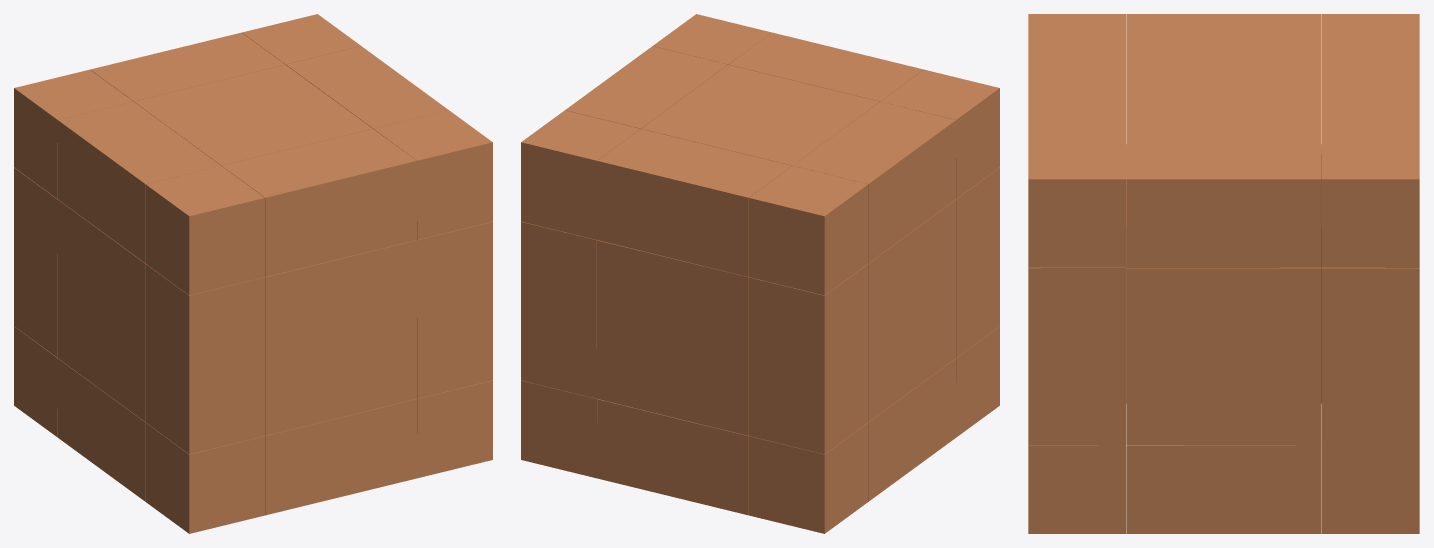
File: cube-cell-fracture.gltf
3 renders of one model, left to right at view 1: azimuth 30°, elevation 25°; view 2: azimuth 150°, elevation 25°; view 3: azimuth 270°, elevation 25°, orthographic. The views are drawn at different scales.
Visible parts, largest first — view 1: Cube_cell.022, Cube_cell.004, Cube_cell.020, Cube_cell.009, Cube_cell.005, Cube_cell.019, Cube_cell.003, Cube_cell.014, Cube_cell.007, Cube_cell.013, Cube_cell.011, Cube_cell (+7 smaller); view 2: Cube_cell.010, Cube_cell.023, Cube_cell.015, Cube_cell.009, Cube_cell.005, Cube_cell.019, Cube_cell.002, Cube_cell.006, Cube_cell.024, Cube_cell.012, Cube_cell.021, Cube_cell (+7 smaller); view 3: Cube_cell.016, Cube_cell.018, Cube_cell.007, Cube_cell.024, Cube_cell.001, Cube_cell.019, Cube_cell.011, Cube_cell.021, Cube_cell.008, Cube_cell.017, Cube_cell.005, Cube_cell.015 (+3 smaller).
Boxes of the visible parts, x1=… form: Cube_cell.022: x1=265, y1=240, x2=416, y2=435; Cube_cell.004: x1=145, y1=264, x2=264, y2=454; Cube_cell.020: x1=222, y1=129, x2=416, y2=276; Cube_cell.009: x1=58, y1=199, x2=145, y2=421; Cube_cell.005: x1=58, y1=101, x2=220, y2=263; Cube_cell.019: x1=134, y1=64, x2=372, y2=165; Cube_cell.003: x1=145, y1=166, x2=264, y2=295; Cube_cell.014: x1=265, y1=399, x2=416, y2=515; Cube_cell.007: x1=417, y1=221, x2=492, y2=398; Cube_cell.013: x1=145, y1=423, x2=264, y2=533; Cube_cell.011: x1=373, y1=110, x2=492, y2=239; Cube_cell: x1=58, y1=358, x2=145, y2=501; Cube_cell.010: x1=597, y1=240, x2=748, y2=435; Cube_cell.023: x1=749, y1=264, x2=868, y2=454; Cube_cell.015: x1=597, y1=129, x2=791, y2=276; Cube_cell.009: x1=868, y1=199, x2=955, y2=421; Cube_cell.005: x1=793, y1=101, x2=955, y2=263; Cube_cell.019: x1=641, y1=64, x2=879, y2=165; Cube_cell.002: x1=749, y1=166, x2=868, y2=295; Cube_cell.006: x1=597, y1=399, x2=748, y2=515; Cube_cell.024: x1=521, y1=221, x2=597, y2=398; Cube_cell.012: x1=749, y1=423, x2=868, y2=533; Cube_cell.021: x1=521, y1=110, x2=640, y2=239; Cube_cell: x1=868, y1=358, x2=955, y2=501; Cube_cell.016: x1=1126, y1=267, x2=1321, y2=445; Cube_cell.018: x1=1126, y1=138, x2=1321, y2=267; Cube_cell.007: x1=1028, y1=267, x2=1125, y2=445; Cube_cell.024: x1=1322, y1=267, x2=1419, y2=445; Cube_cell.001: x1=1126, y1=445, x2=1321, y2=533; Cube_cell.019: x1=1126, y1=55, x2=1321, y2=137; Cube_cell.011: x1=1028, y1=138, x2=1125, y2=267; Cube_cell.021: x1=1322, y1=138, x2=1419, y2=267; Cube_cell.008: x1=1028, y1=445, x2=1125, y2=533; Cube_cell.017: x1=1322, y1=445, x2=1419, y2=533; Cube_cell.005: x1=1126, y1=14, x2=1321, y2=55; Cube_cell.015: x1=1322, y1=55, x2=1419, y2=137.
Size of what is drawn, in the model's own units: 2 by 2 by 2.
